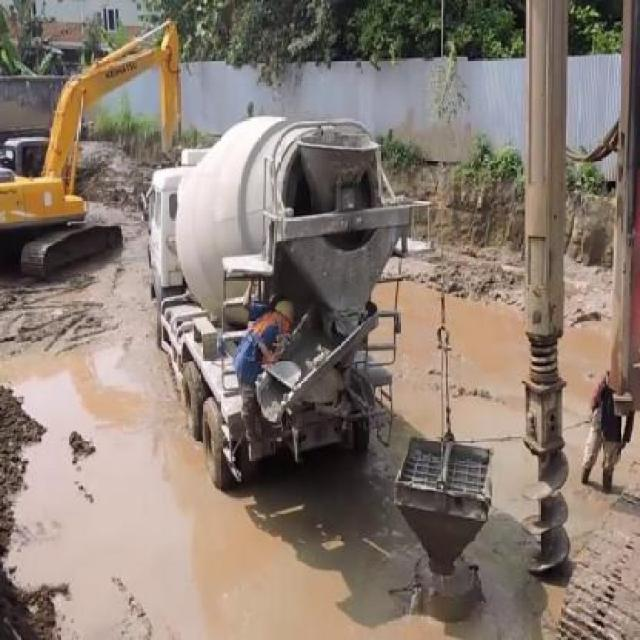Excavator: (0, 21, 178, 276)
